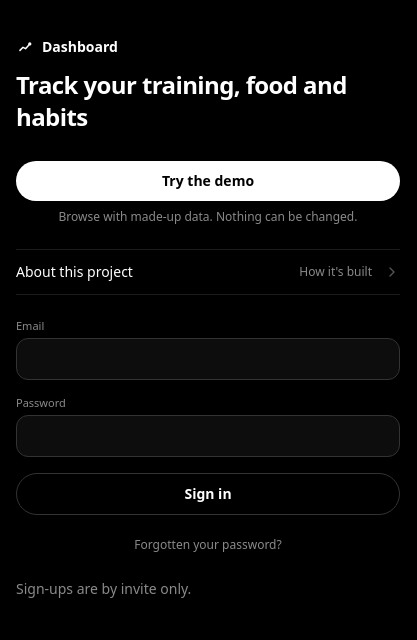
Scenario: LoginPage › shows the API's message on bad credentials without inventing detail
In the field labelled "Email": (208, 359) [16, 338, 400, 380], type "a@b.com"
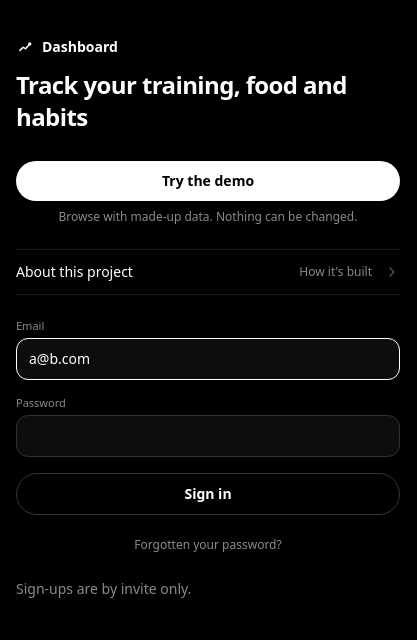
In the password field labelled "Password": (208, 436) [16, 415, 400, 457], type "wrong-password"
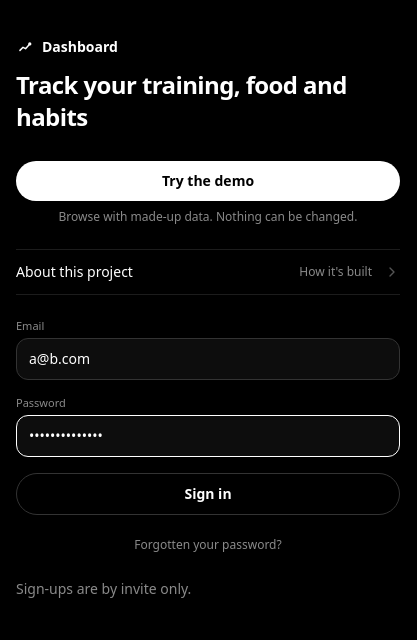
Click the button "Sign in": (208, 494) [16, 473, 400, 515]
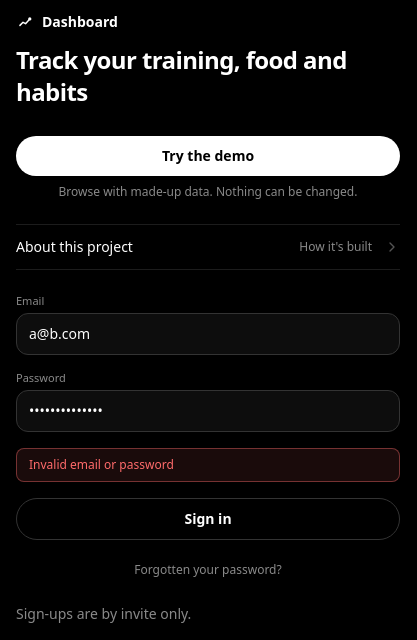
Expected: the message reads "Invalid email or password", [29, 456, 174, 473]
